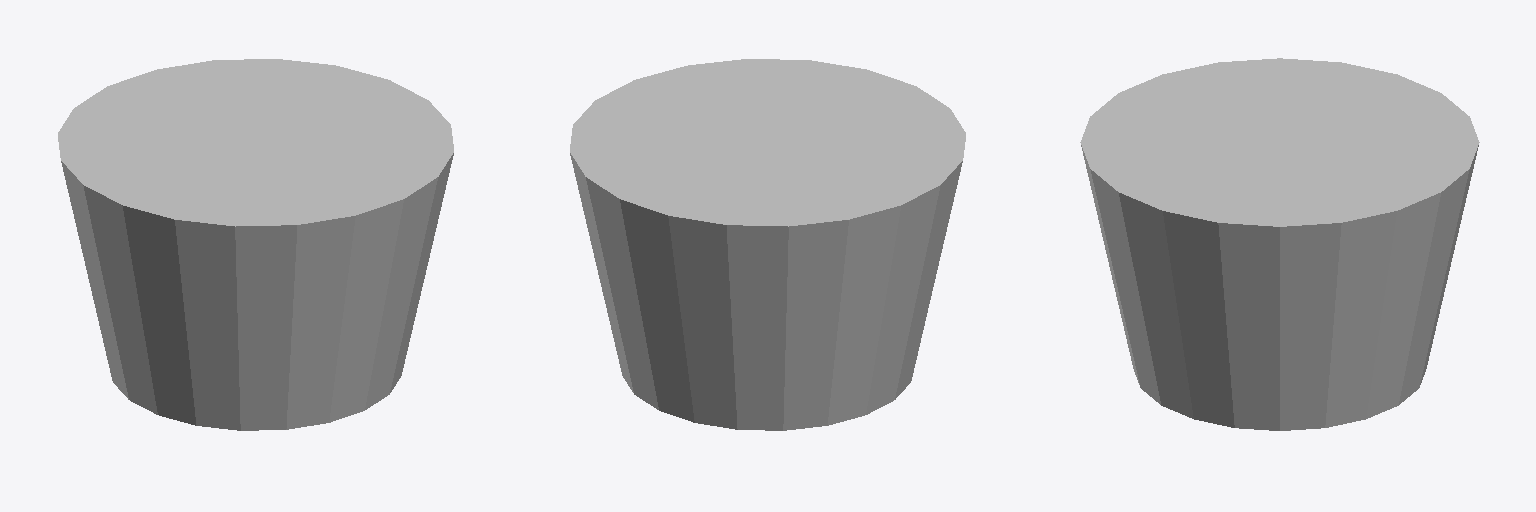
The model's file is obj_lemonade.obj.
The picture shows the model from 3 angles: view 1: azimuth 30°, elevation 25°; view 2: azimuth 150°, elevation 25°; view 3: azimuth 270°, elevation 25°; orthographic projection.
Parts seen in each view (by area): view 1: pCylinder3; view 2: pCylinder3; view 3: pCylinder3.
Part boxes in pixels (left/top/right/bottom): pCylinder3: left=58, top=59, right=453, bottom=430; pCylinder3: left=570, top=59, right=965, bottom=430; pCylinder3: left=1080, top=58, right=1479, bottom=430.
Size of the model in its own units: 2.41 by 1.51 by 2.41.